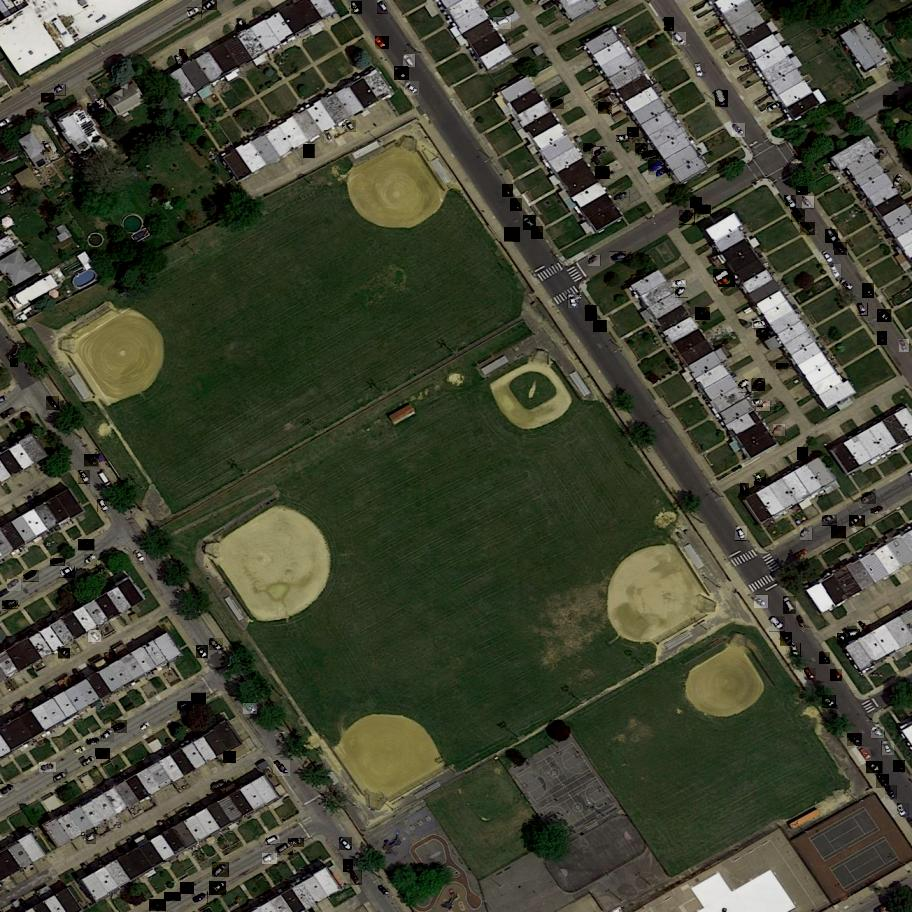ship: (649, 160, 665, 178)
small-vehicle: (273, 759, 291, 777), (212, 862, 229, 878), (504, 227, 521, 243), (769, 616, 785, 633), (714, 269, 731, 285), (493, 17, 512, 31), (209, 880, 226, 895), (680, 209, 695, 226), (276, 843, 294, 857), (394, 66, 409, 82), (695, 307, 711, 322), (404, 81, 420, 96), (754, 594, 770, 609), (23, 570, 40, 584), (866, 761, 883, 775), (784, 597, 797, 615), (640, 150, 659, 162), (84, 453, 99, 468), (831, 525, 846, 540), (523, 215, 537, 231), (46, 396, 60, 412), (718, 275, 735, 288), (149, 899, 167, 911), (716, 90, 728, 108), (192, 891, 207, 905), (1, 784, 16, 798), (375, 36, 389, 51), (88, 630, 102, 645), (7, 579, 22, 593), (876, 774, 890, 789), (850, 515, 865, 529), (862, 492, 877, 506), (848, 733, 863, 747), (95, 748, 110, 762), (873, 148, 888, 162), (840, 278, 855, 292), (732, 124, 747, 138), (550, 97, 565, 111), (595, 166, 610, 180), (791, 208, 805, 223), (800, 223, 815, 237), (112, 720, 128, 733), (79, 539, 95, 552), (804, 667, 817, 683), (211, 780, 227, 793), (825, 229, 838, 245), (767, 102, 783, 115), (735, 526, 748, 542), (585, 305, 597, 322), (609, 252, 626, 264), (862, 283, 874, 300), (614, 190, 631, 202), (593, 320, 607, 334), (893, 759, 907, 773), (883, 95, 897, 109), (223, 751, 237, 765), (598, 102, 612, 116), (878, 309, 892, 323), (635, 144, 649, 158), (738, 379, 752, 393), (263, 852, 278, 865), (510, 198, 523, 213), (101, 728, 114, 743), (191, 692, 206, 705), (209, 638, 224, 651), (61, 566, 76, 579), (133, 550, 146, 565), (78, 470, 91, 485), (859, 747, 872, 762), (831, 668, 844, 683), (821, 250, 834, 265), (830, 263, 843, 278), (780, 632, 793, 647), (784, 195, 797, 210), (673, 32, 686, 47), (885, 785, 897, 801), (882, 740, 894, 756), (797, 615, 808, 632), (180, 882, 194, 895), (404, 54, 417, 68), (531, 226, 544, 240), (141, 721, 154, 735), (196, 645, 209, 659), (84, 554, 98, 567), (871, 728, 885, 741), (823, 696, 837, 709), (834, 243, 847, 257), (657, 166, 671, 179), (801, 527, 814, 541), (753, 378, 766, 392), (756, 327, 770, 340), (266, 835, 281, 847), (53, 772, 68, 784), (351, 870, 363, 885), (378, 0, 390, 15), (98, 499, 110, 514), (898, 803, 910, 818), (81, 756, 96, 768), (593, 147, 608, 159), (88, 103, 99, 119), (870, 505, 886, 516), (790, 643, 801, 659), (588, 255, 601, 268), (340, 838, 353, 851), (858, 620, 871, 633), (803, 197, 816, 210), (379, 884, 391, 898), (244, 703, 258, 715), (774, 424, 786, 438), (188, 8, 203, 19), (41, 93, 56, 104), (304, 144, 315, 159), (823, 516, 838, 527), (583, 143, 598, 154), (797, 446, 808, 461), (756, 401, 771, 412), (165, 892, 181, 902), (40, 763, 56, 773), (2, 601, 18, 611), (676, 286, 688, 299), (502, 185, 514, 198), (54, 85, 67, 97), (820, 652, 832, 665), (754, 474, 766, 487), (86, 831, 97, 845), (73, 745, 87, 756), (42, 141, 53, 155), (857, 303, 868, 317), (664, 17, 675, 31), (694, 205, 711, 214), (289, 839, 304, 849), (569, 294, 579, 309), (178, 702, 193, 712), (900, 338, 910, 353), (846, 630, 861, 640), (877, 331, 887, 346), (85, 738, 101, 747), (345, 121, 357, 133), (58, 648, 70, 660), (838, 633, 850, 645), (691, 197, 703, 209), (324, 131, 335, 144), (894, 174, 905, 187), (352, 1, 362, 15), (344, 859, 354, 873), (96, 99, 106, 113), (696, 64, 706, 78), (752, 321, 766, 331), (50, 558, 65, 567), (628, 127, 640, 138), (796, 186, 809, 196), (237, 19, 246, 33), (617, 135, 630, 144), (740, 483, 749, 496), (739, 64, 751, 73), (672, 280, 686, 287), (180, 49, 188, 61), (751, 400, 763, 407), (175, 56, 183, 66), (10, 358, 18, 368), (776, 363, 788, 369)
